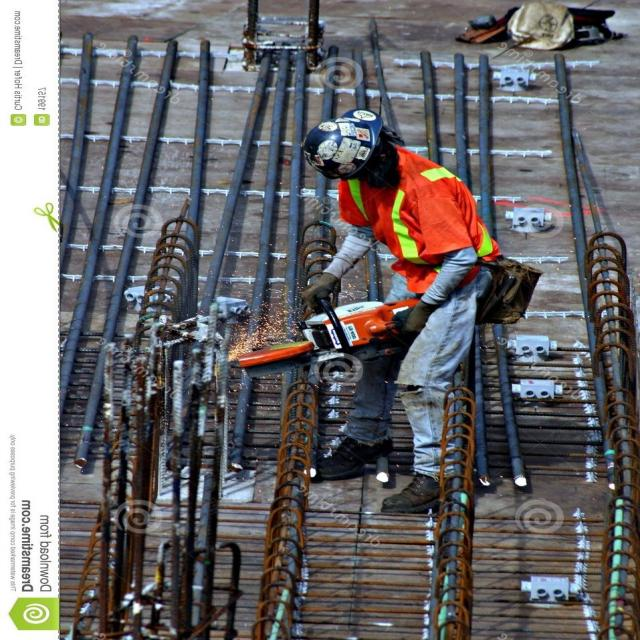Reflective-Jacket: (329, 146, 503, 298)
Safety-Helmet: (286, 101, 399, 177)
